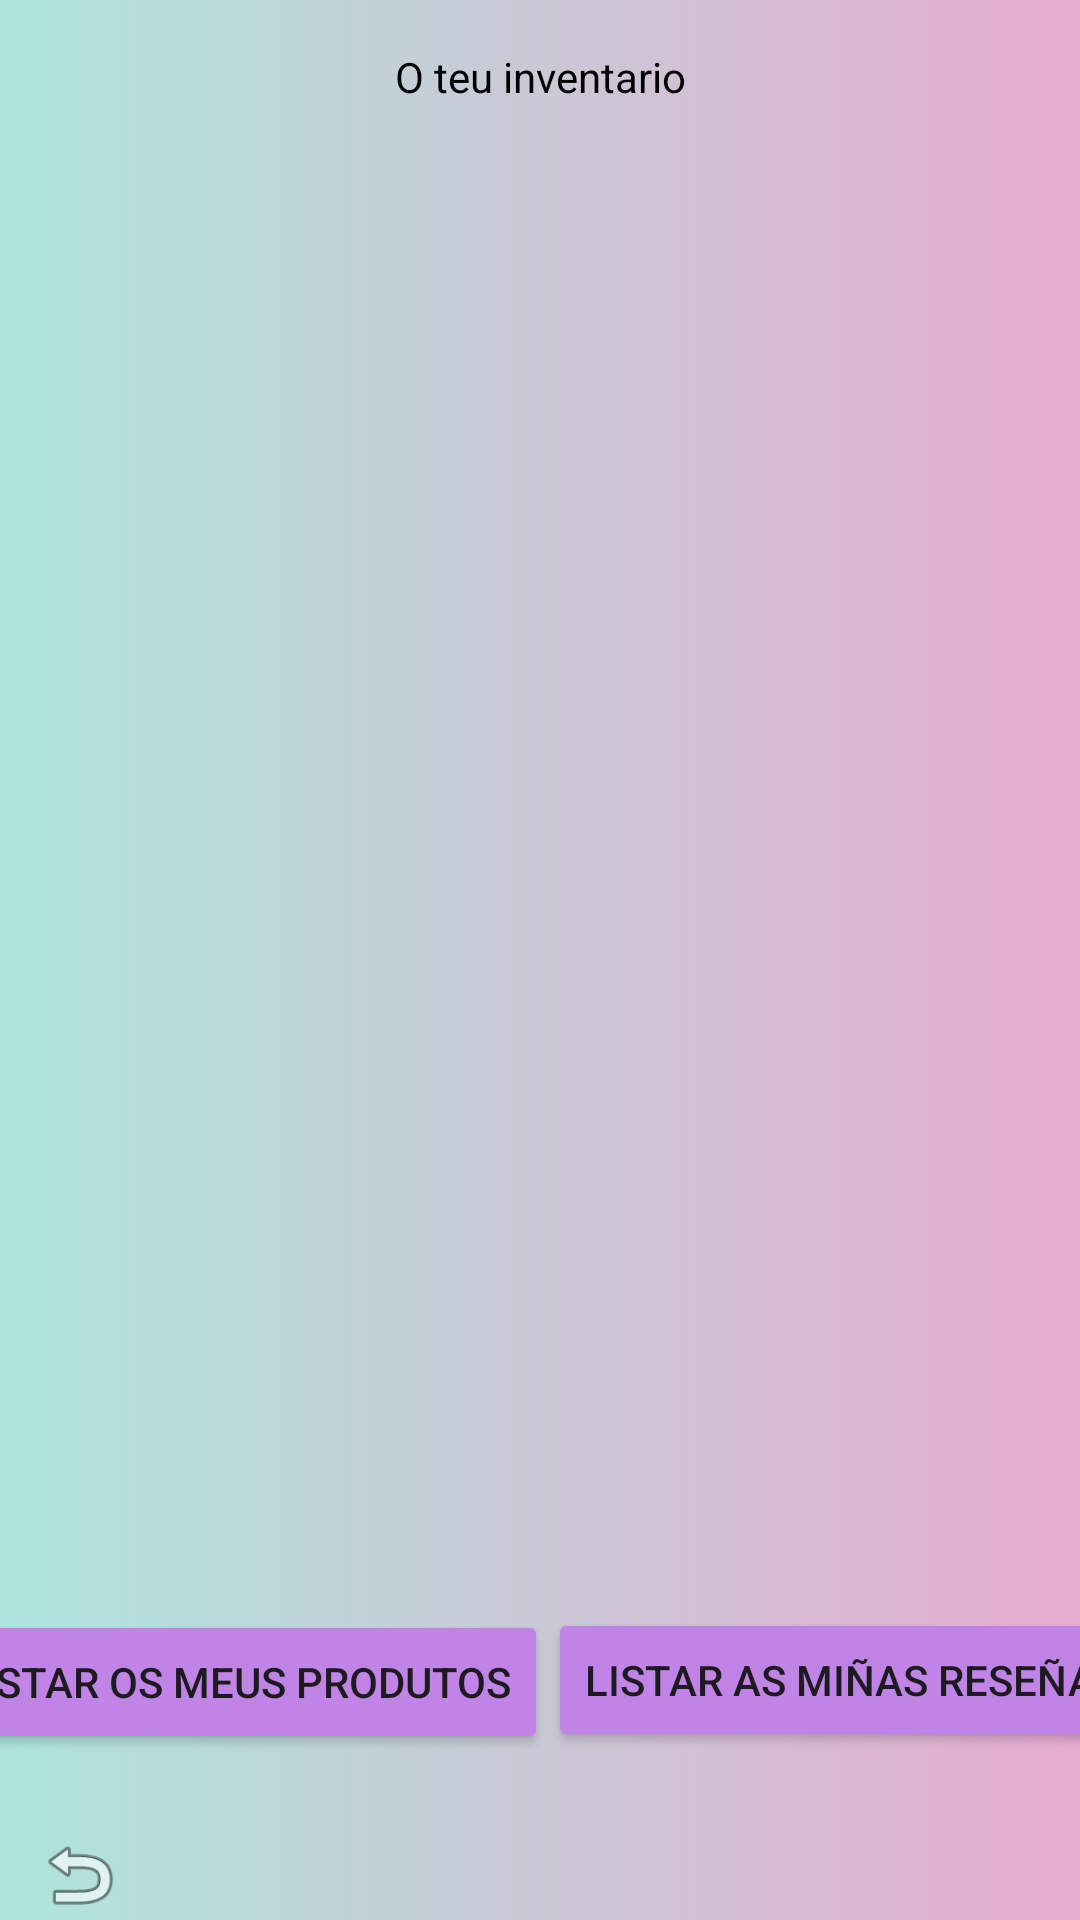

Point at icon controls on the screen. Image size 1080×1920, points as point (x, y).
revert: point (80, 1875)
